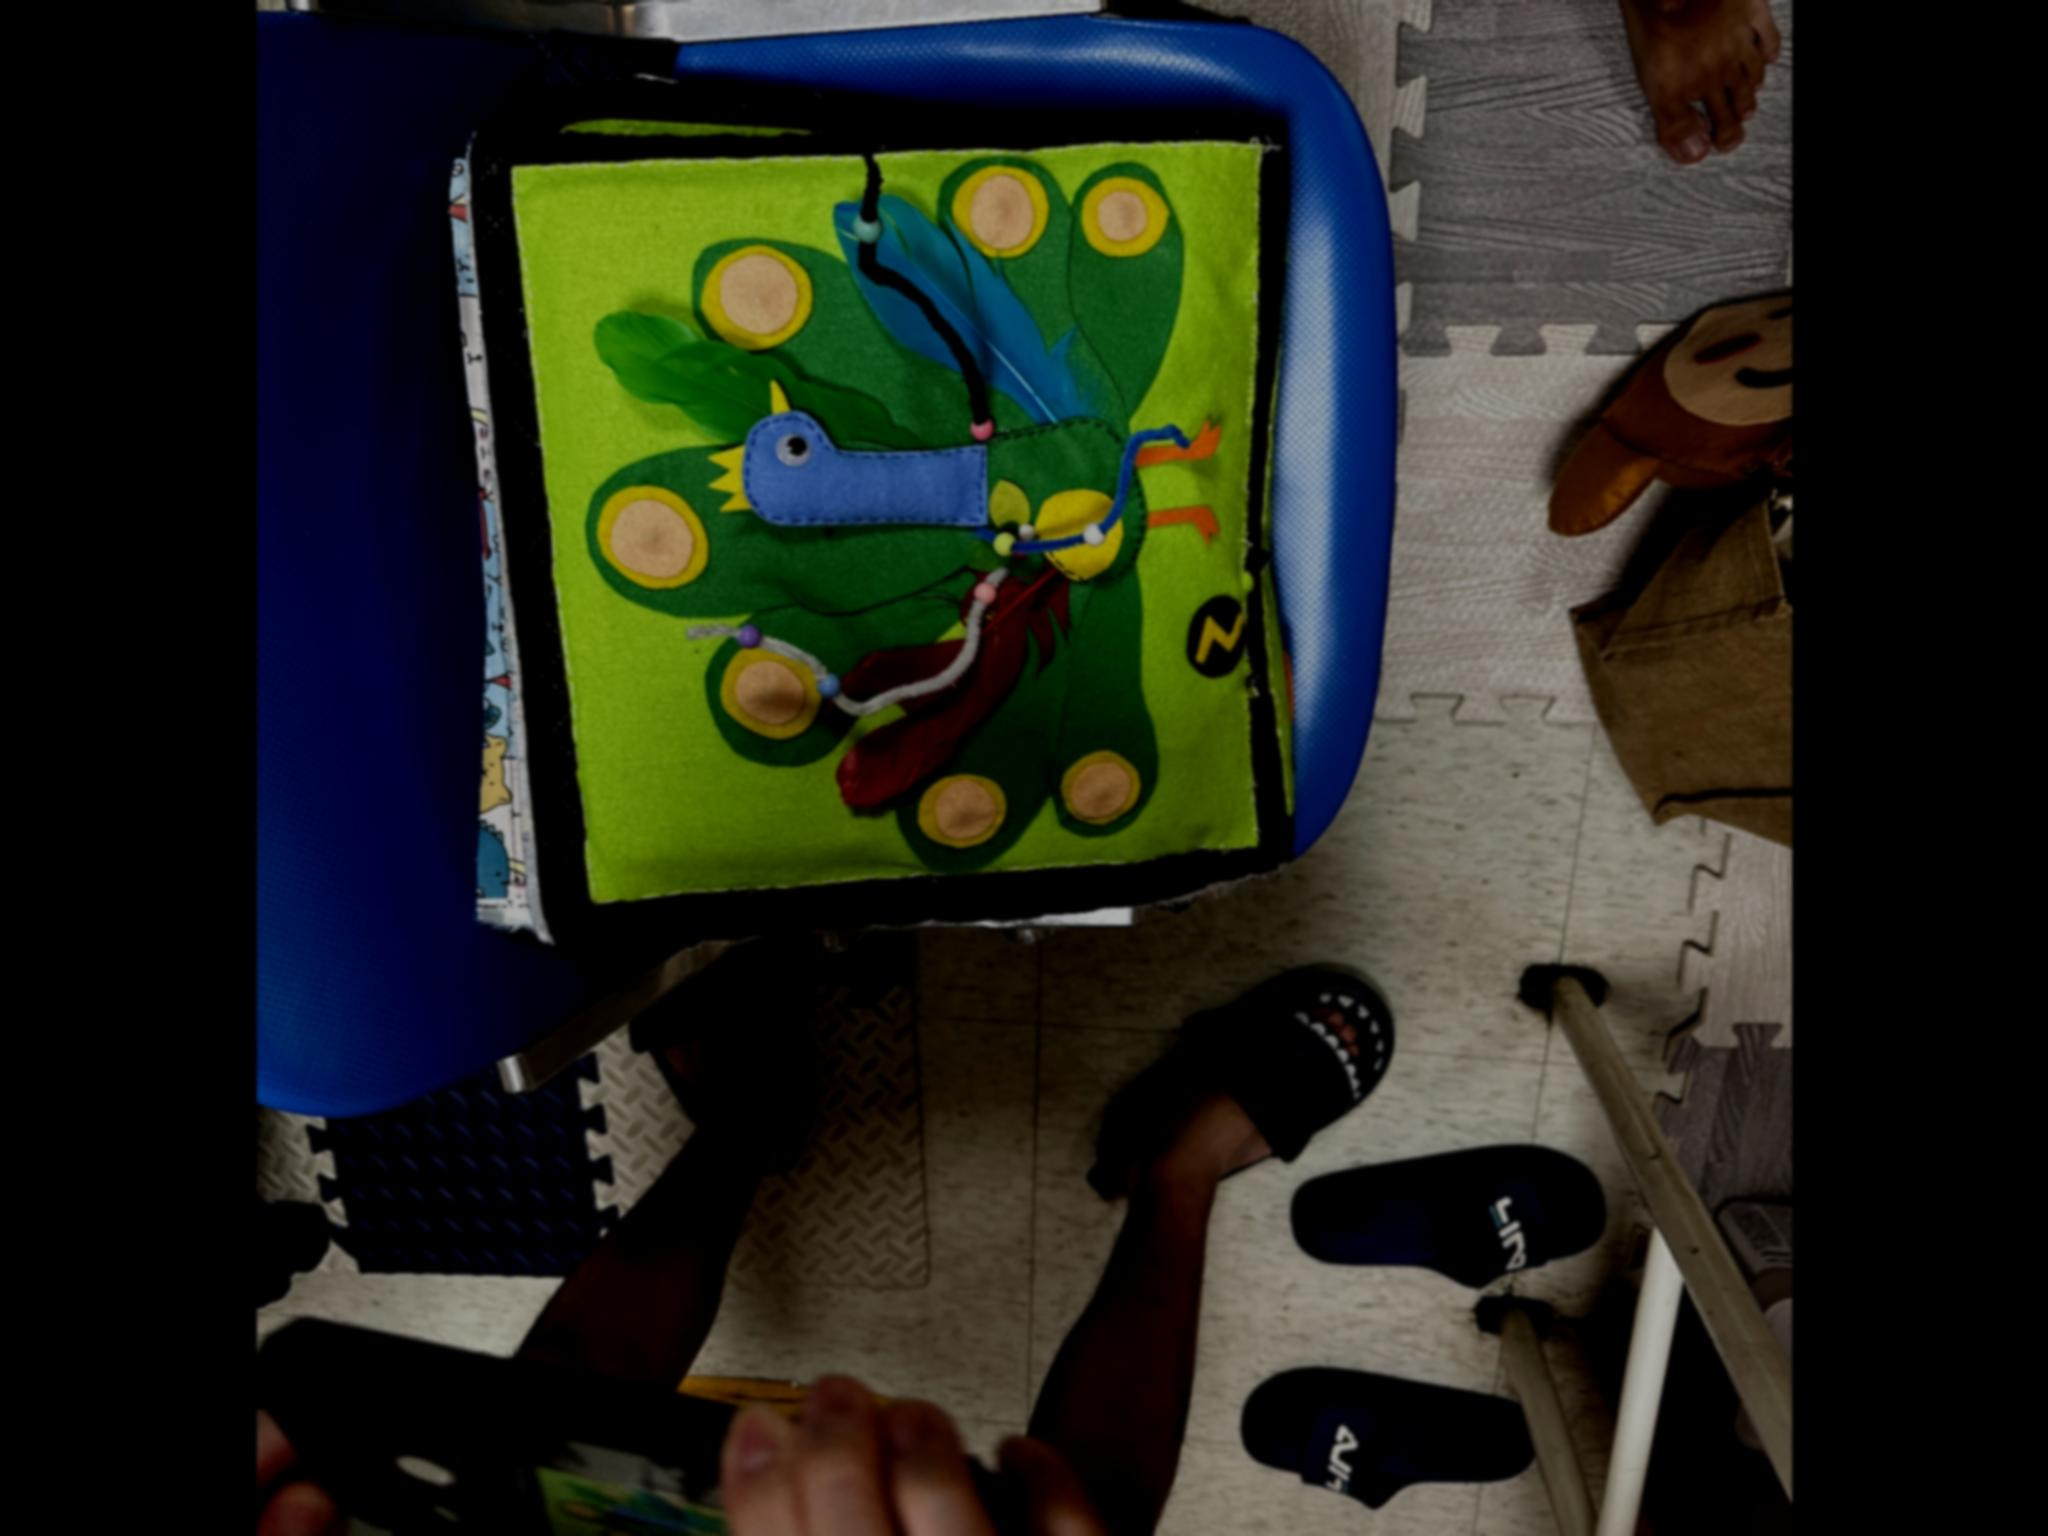bead: (845, 203, 890, 240), (961, 408, 1000, 450), (1072, 516, 1109, 553), (739, 615, 766, 663), (814, 666, 847, 703), (971, 578, 1001, 613), (984, 531, 1018, 555)
